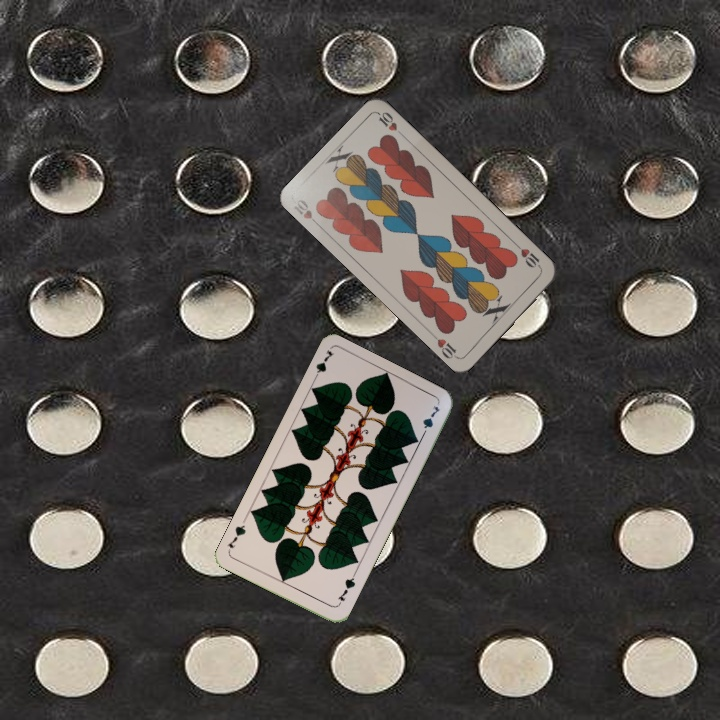G7: (308, 346, 336, 385), (333, 570, 358, 608)
H10: (289, 195, 323, 231), (512, 240, 544, 272)
